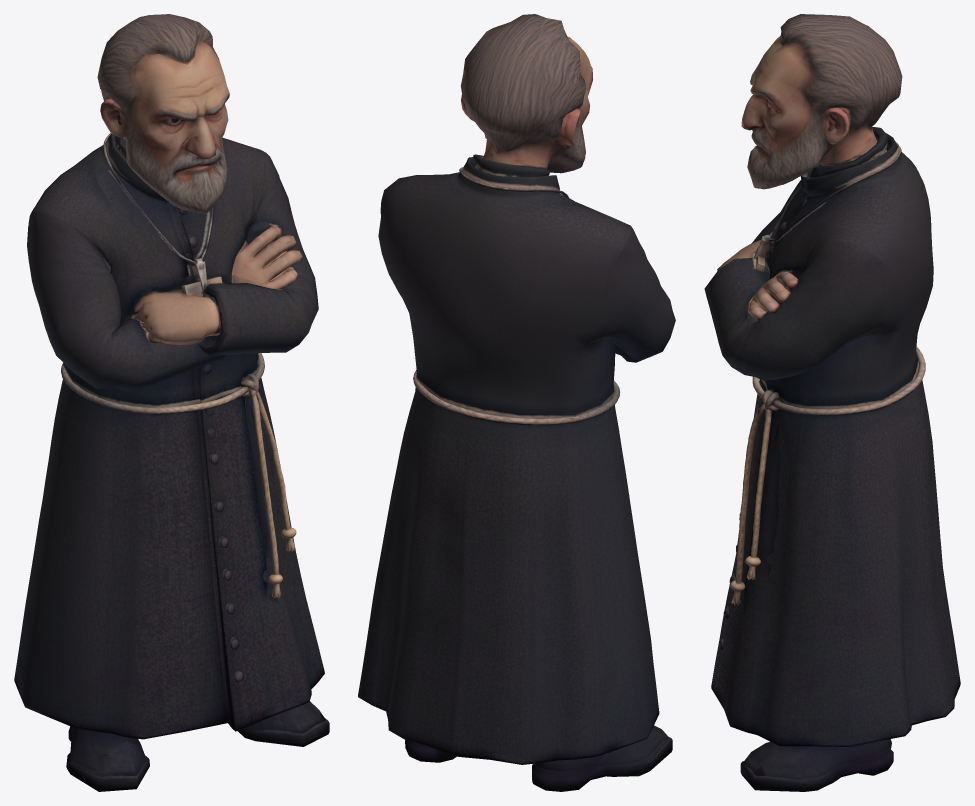
The model's file is tripo_convert_77d801b4-2e33-475c-8e39-43508fba61fc.fbx.
3 views of the same model, side by side, from view 1: azimuth 30°, elevation 25°; view 2: azimuth 150°, elevation 25°; view 3: azimuth 270°, elevation 25° (orthographic). The views are drawn at different scales.
Parts seen in each view (by area): view 1: tripo_node_77d801b4; view 2: tripo_node_77d801b4; view 3: tripo_node_77d801b4.
Part boxes in pixels (x1,y1,x2,y2): tripo_node_77d801b4: (14, 14, 329, 791); tripo_node_77d801b4: (358, 14, 675, 791); tripo_node_77d801b4: (704, 14, 960, 791).
Size of the model in its own units: 0.4028 by 0.9995 by 0.3267.
Materials: 1 (1 with a texture image).
